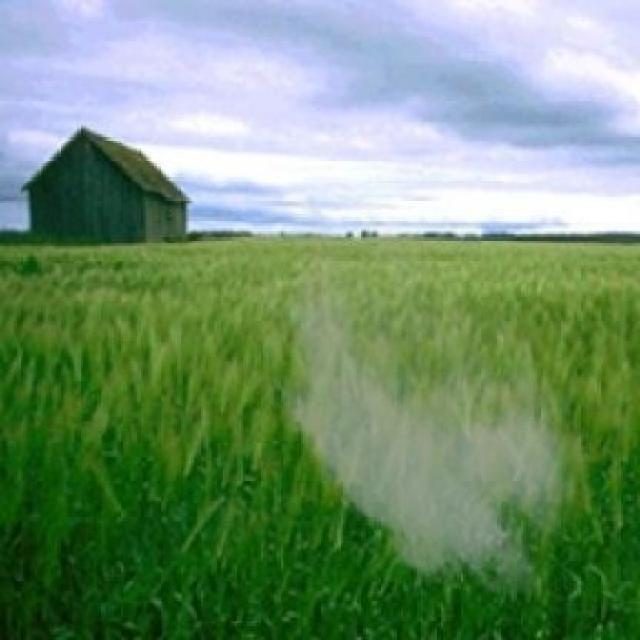smoke: (277, 273, 580, 592)
